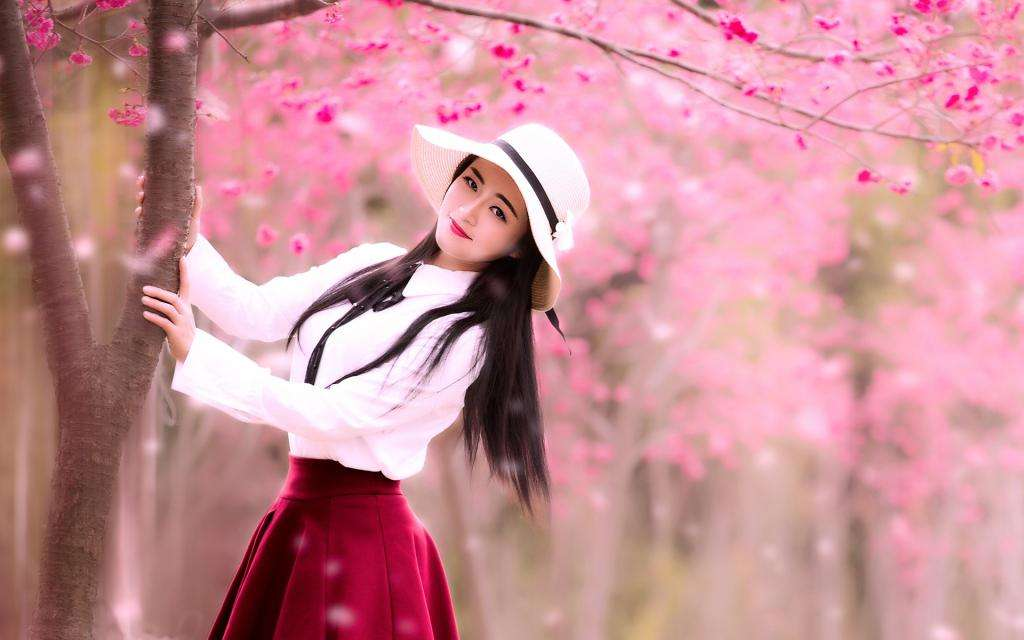person: (189, 107, 612, 500)
